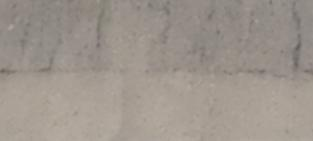fissura: (0, 3, 312, 89)
